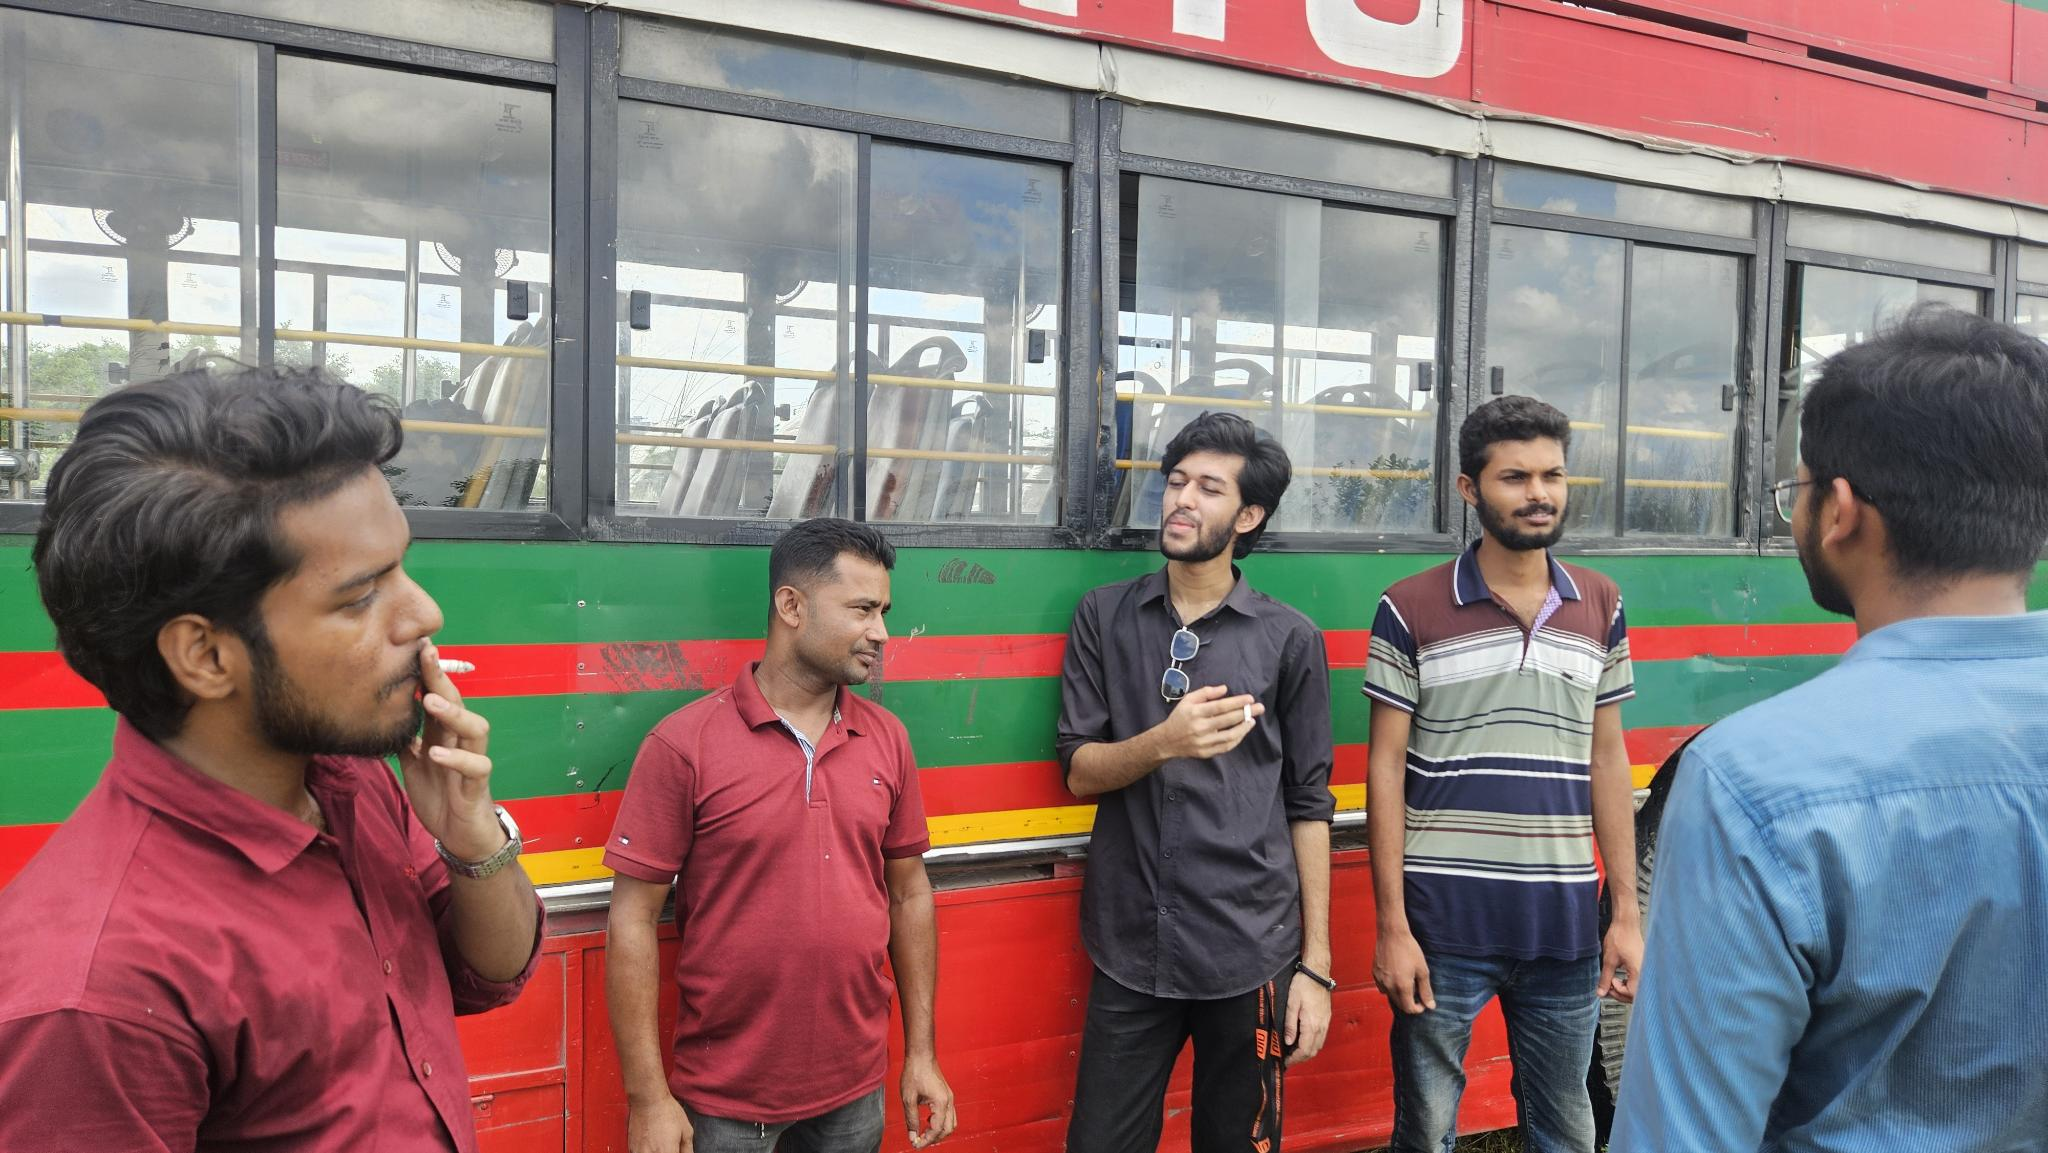cigarette: (435, 654, 478, 678), (1241, 700, 1255, 727)
nonSmoker: (1609, 304, 2048, 1153), (603, 519, 956, 1153), (1366, 398, 1641, 1153)
smoker: (0, 366, 542, 1152), (1055, 412, 1336, 1153)
